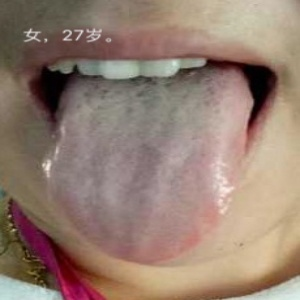st: (52, 87, 243, 258)
